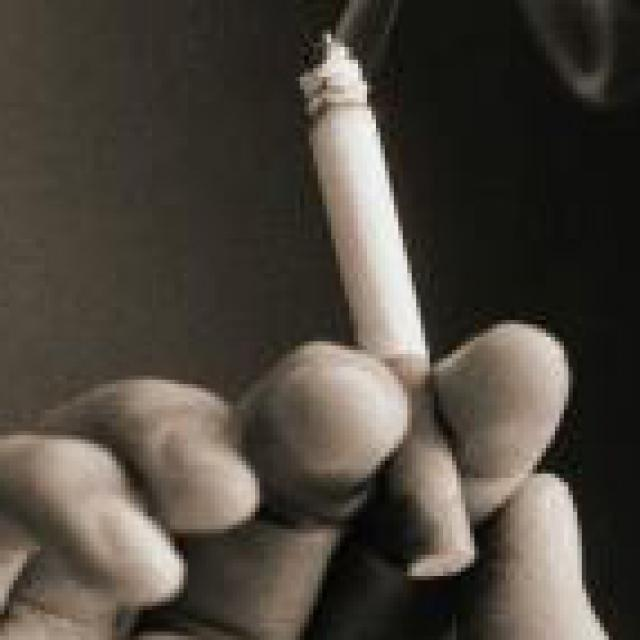smoking: (296, 28, 479, 580)
